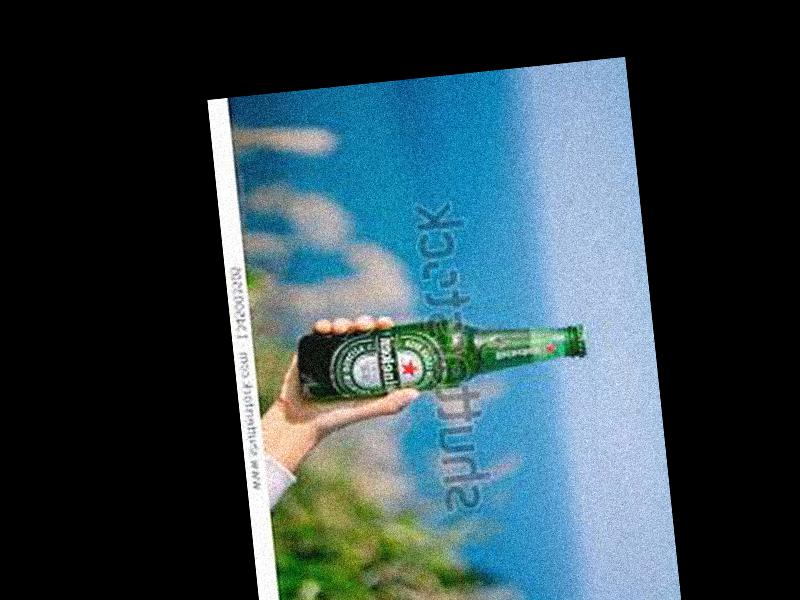Beer: (294, 306, 590, 405)
